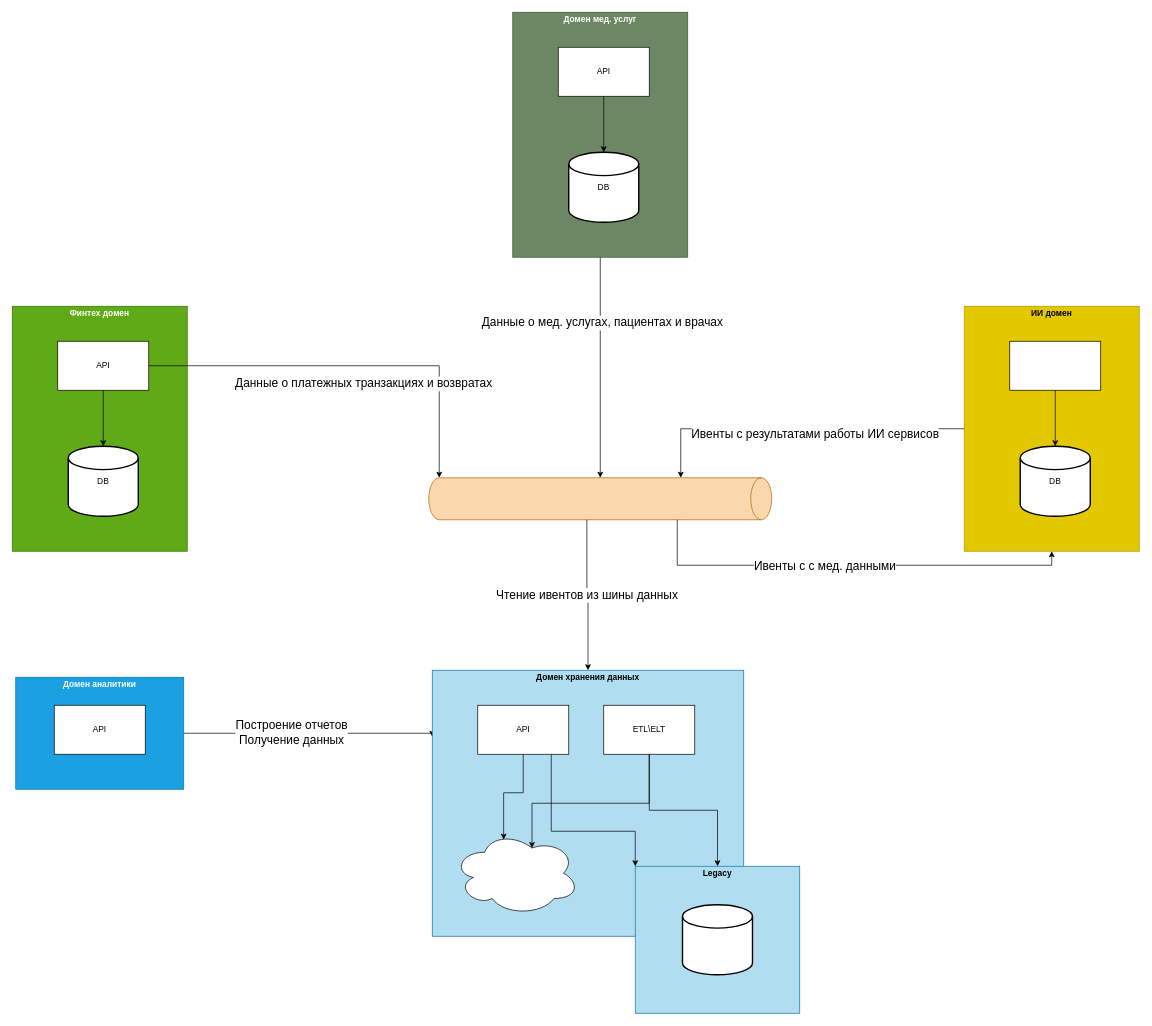
Some shapes in this 1152 by 1026 pixel diagram are drawn without their labels. Here are the shapes that lost their labels. From the top down, the centre of each, then its label:
At (x=1055, y=365): "Services".
At (x=600, y=498): "KAFKA".
At (x=516, y=873): "Data Lake House".
At (x=717, y=939): "DWH".
